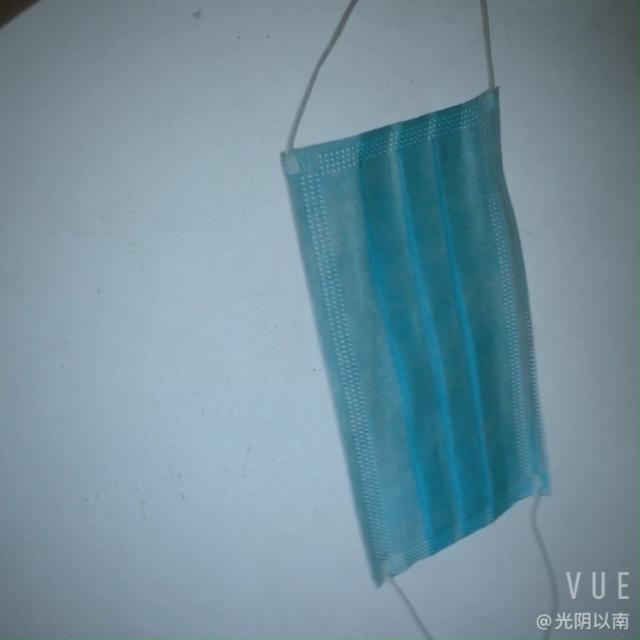face mask: (285, 80, 547, 588)
